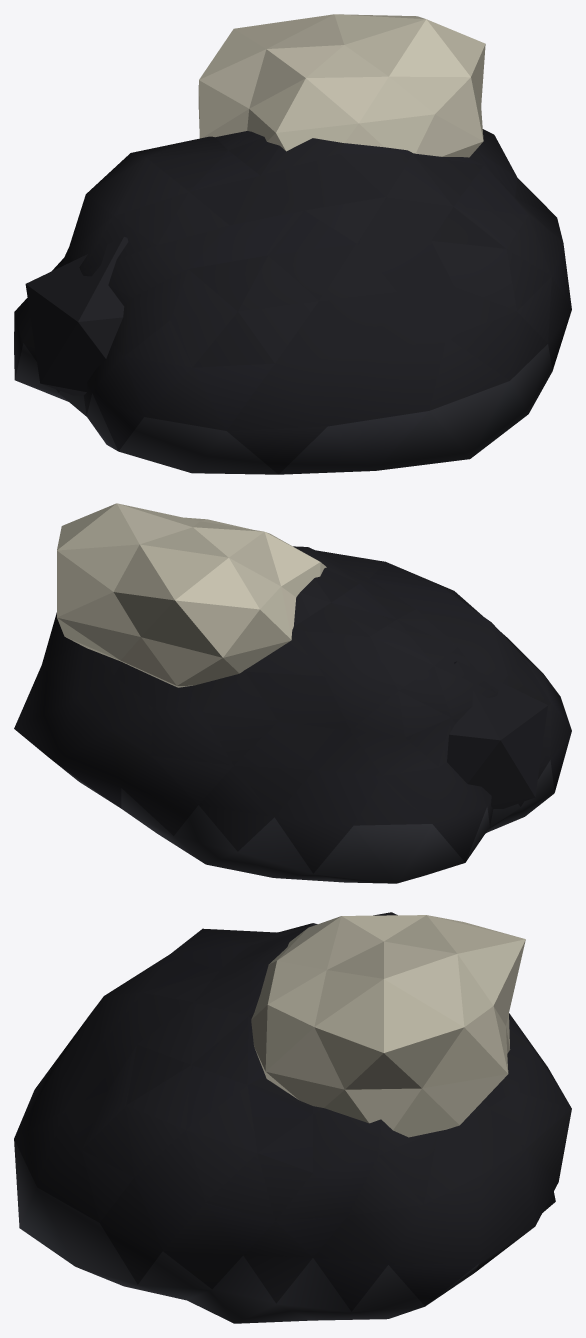
The model's file is flint_nodule.glb.
The picture shows the model from 3 angles, top to bottom: view 1: azimuth 30°, elevation 25°; view 2: azimuth 150°, elevation 25°; view 3: azimuth 270°, elevation 25°; orthographic projection. The views are drawn at different scales.
Parts seen in each view (by area): view 1: flint_nodule; view 2: flint_nodule; view 3: flint_nodule.
Boxes of the visible parts, x1=… form: flint_nodule: x1=14, y1=14, x2=571, y2=474; flint_nodule: x1=14, y1=503, x2=571, y2=883; flint_nodule: x1=14, y1=912, x2=571, y2=1323.
Size of the model in its own units: 0.178 by 0.0985 by 0.1574.
